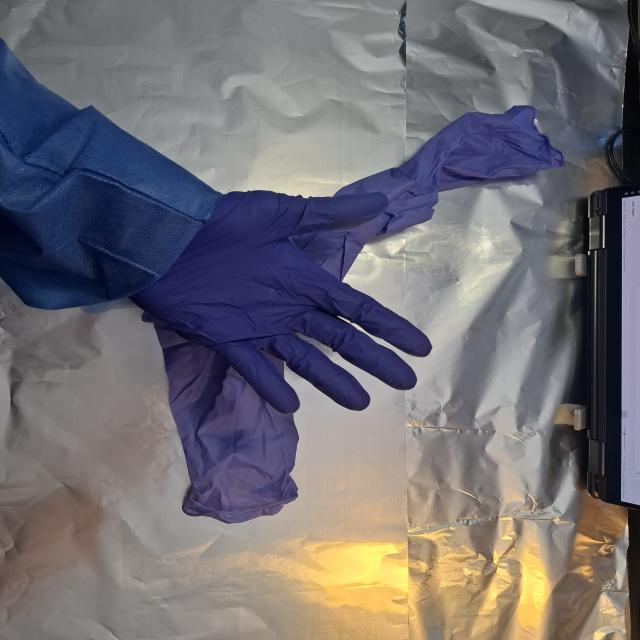glove_on: (126, 188, 436, 415)
